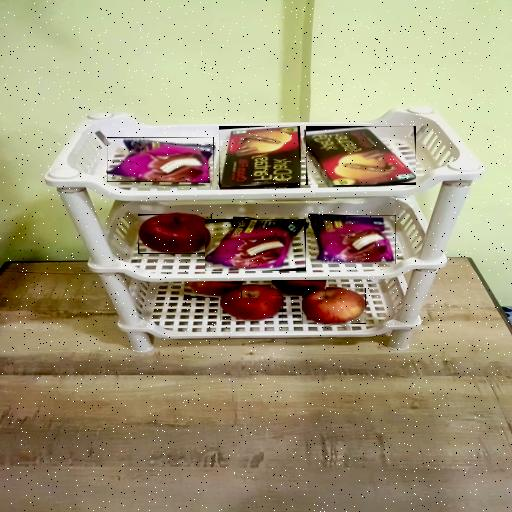Apple: (138, 214, 212, 254), (302, 288, 366, 324), (220, 285, 283, 321), (184, 282, 242, 298), (272, 280, 326, 296)
Choco Fills: (306, 126, 416, 185), (219, 126, 300, 187)
Choco Pie: (205, 219, 306, 271), (107, 137, 214, 182), (311, 215, 396, 264)
